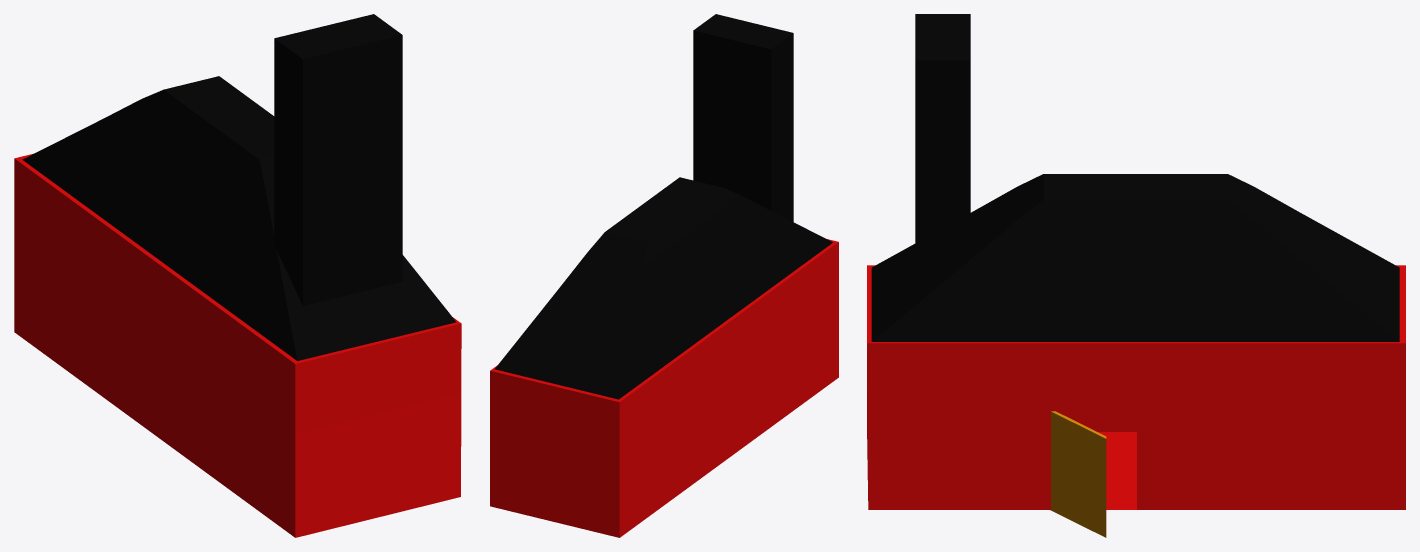
File: house.glb
3 views of the same model, side by side, from view 1: azimuth 30°, elevation 25°; view 2: azimuth 150°, elevation 25°; view 3: azimuth 270°, elevation 25° (orthographic). The views are drawn at different scales.
Parts seen in each view (by area): view 1: Cube.002, Cube; view 2: Cube.002, Cube; view 3: Cube, Cube.002, Cube.001.
Boxes of the visible parts, x1,y1,x2,y2 form: Cube.002: (22, 14, 456, 360); Cube: (14, 153, 461, 537); Cube.002: (495, 14, 832, 399); Cube: (490, 239, 838, 537); Cube: (867, 265, 1405, 509); Cube.002: (871, 14, 1399, 341); Cube.001: (1050, 411, 1106, 537).
Size of the model in its own units: 6.33 by 12.11 by 13.62.
